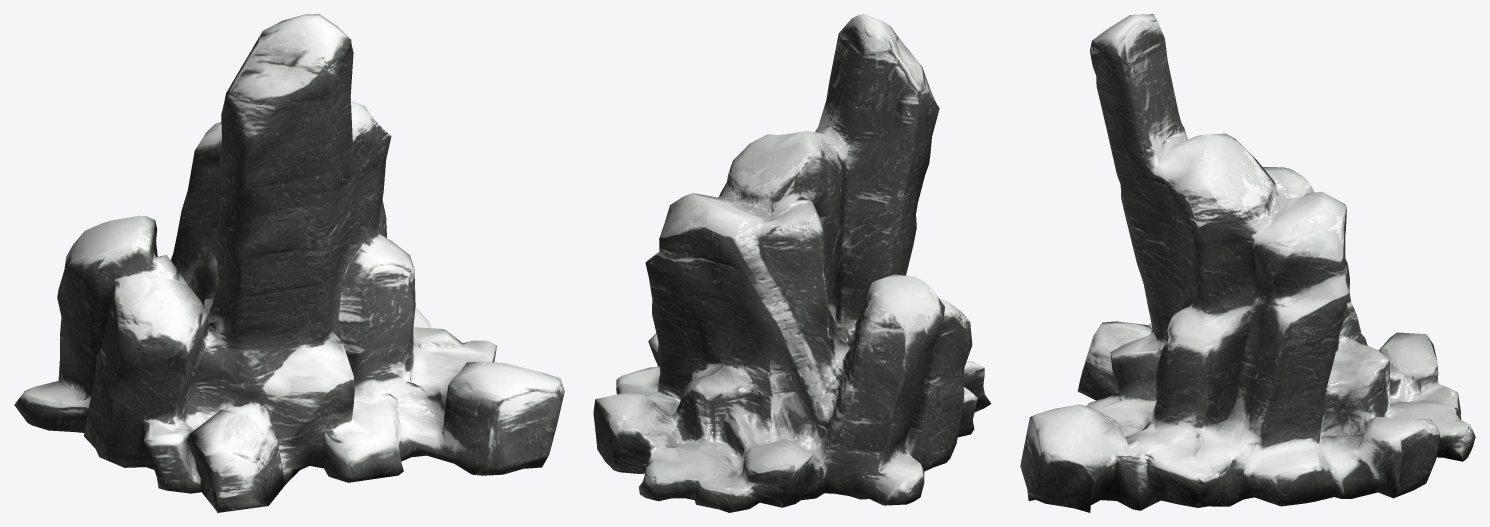
The picture shows the model from 3 angles, left to right: view 1: azimuth 30°, elevation 25°; view 2: azimuth 150°, elevation 25°; view 3: azimuth 270°, elevation 25°; orthographic projection. The views are drawn at different scales.
Visible parts, largest first — view 1: Object_2; view 2: Object_2; view 3: Object_2.
Boxes of the visible parts, bbox=[...] form: Object_2: bbox=[14, 14, 564, 512]; Object_2: bbox=[593, 14, 991, 512]; Object_2: bbox=[1020, 14, 1475, 512].
Size of the model in its own units: 59.38 by 64.81 by 65.58.
Materials: 1 (1 with a texture image).
